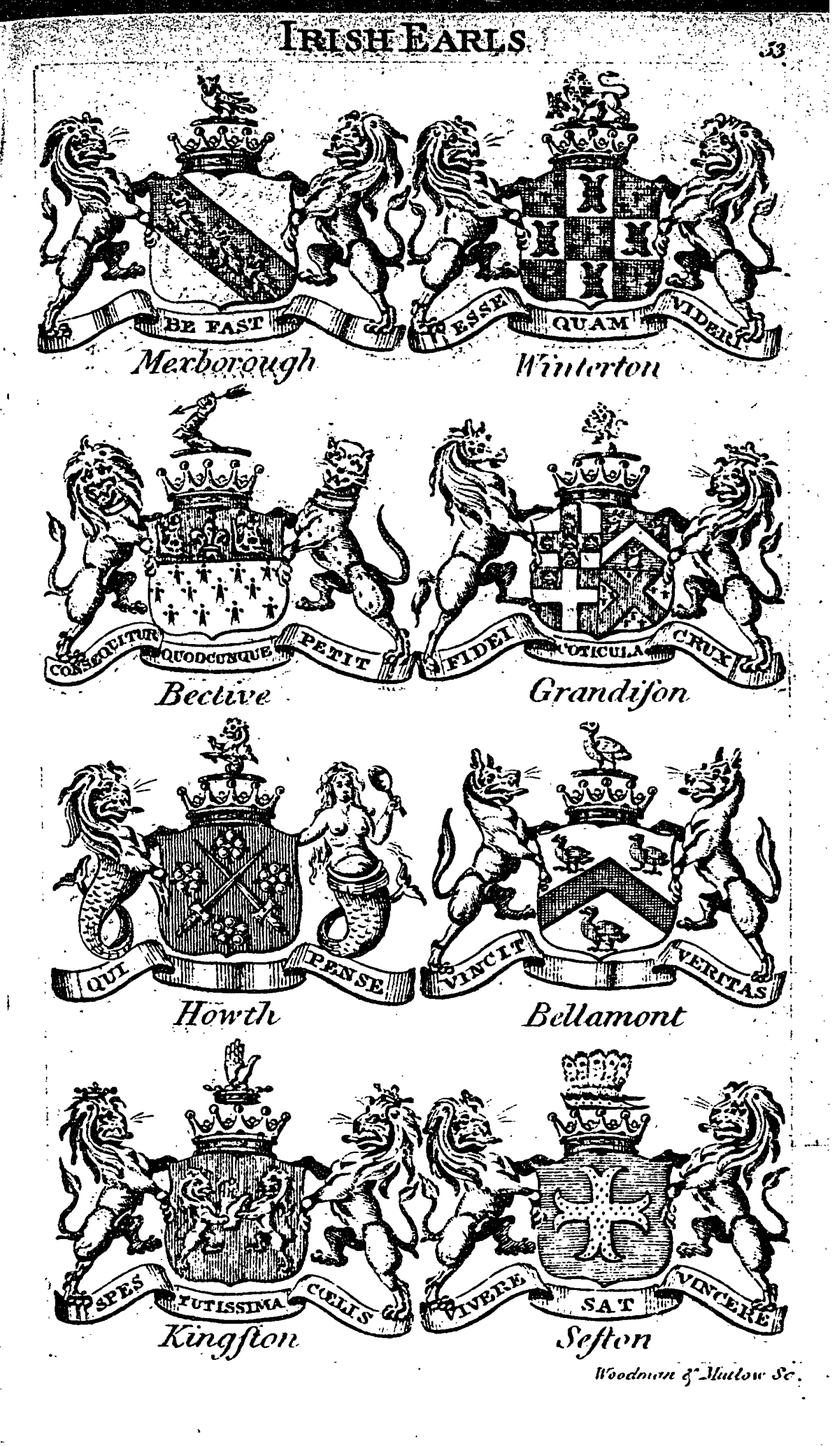coat_of_arms: (30, 379, 414, 718), (418, 1026, 805, 1359), (411, 63, 789, 401), (38, 709, 417, 1039), (35, 66, 408, 401), (407, 716, 798, 1035), (418, 394, 795, 724), (50, 1039, 426, 1361)
